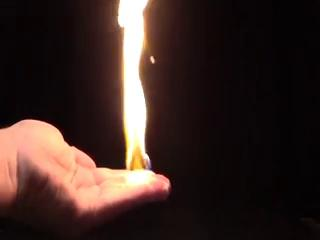Fire: (106, 1, 154, 190)
